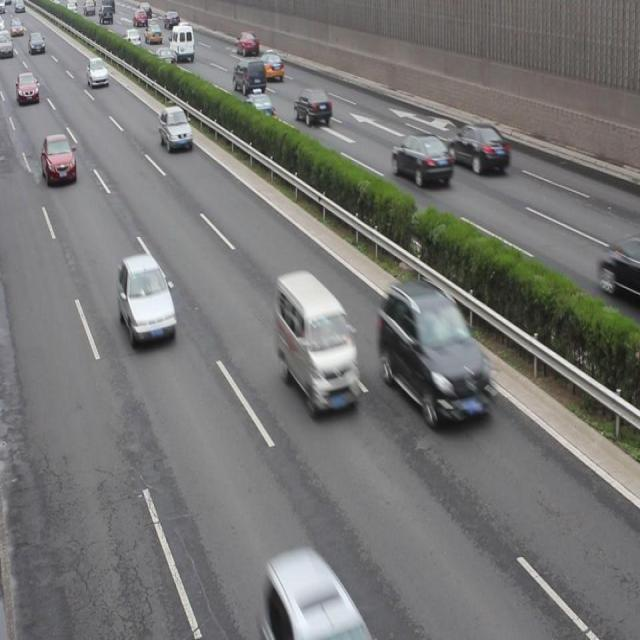car: (379, 281, 494, 427), (118, 255, 177, 346), (391, 136, 454, 186), (448, 124, 509, 175), (42, 134, 78, 185), (158, 107, 192, 150), (294, 89, 332, 126), (242, 90, 275, 122), (16, 72, 40, 104), (258, 50, 283, 80), (86, 58, 108, 88), (236, 30, 259, 55), (152, 47, 176, 69), (122, 28, 141, 49), (145, 22, 163, 43), (174, 20, 190, 37)
truck: (276, 271, 360, 418), (232, 57, 265, 95), (170, 27, 195, 63)
